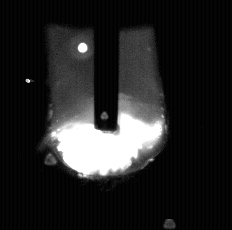arame: (96, 0, 120, 134)
poca: (58, 0, 161, 230)
